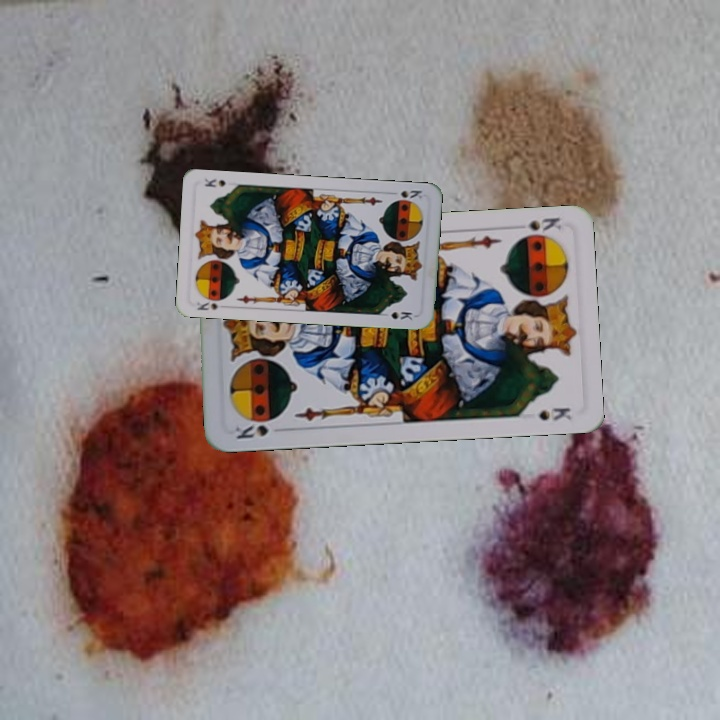SK: (231, 414, 280, 442), (523, 214, 564, 234), (193, 293, 229, 313), (397, 186, 425, 201)
